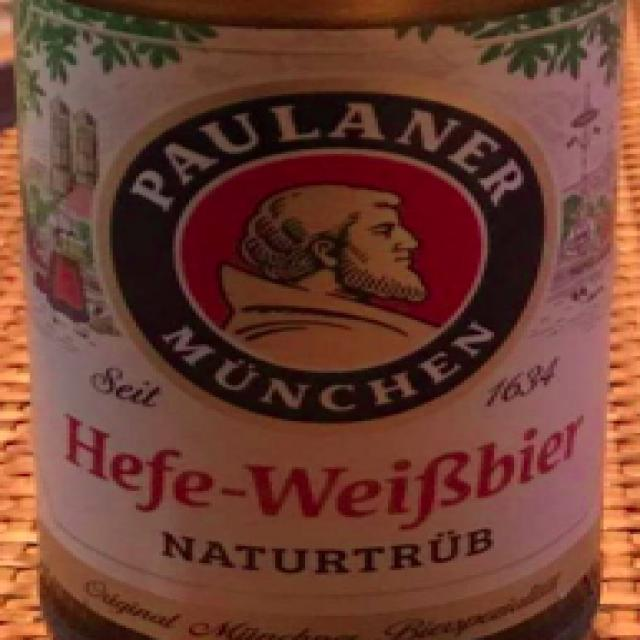Paulaner Weissbier Non-Alcoholic: (3, 0, 640, 640)
